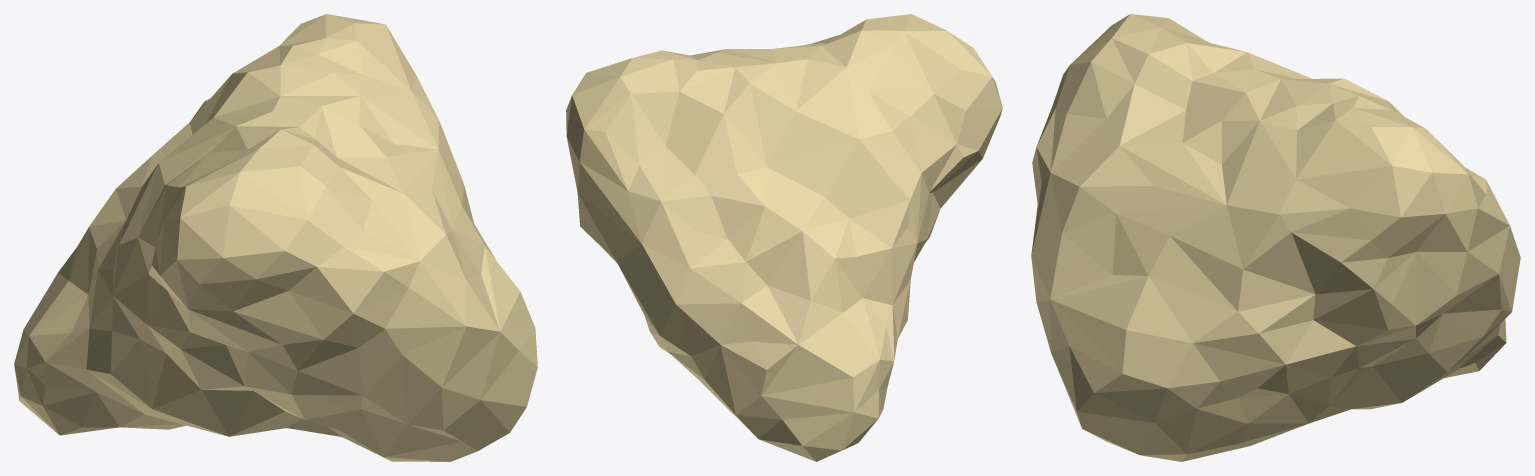
File: Asteroid (32).fbx
3 renders of one model, left to right at view 1: azimuth 30°, elevation 25°; view 2: azimuth 150°, elevation 25°; view 3: azimuth 270°, elevation 25°, orthographic. The views are drawn at different scales.
Visible parts, largest first — view 1: Asteroid210; view 2: Asteroid210; view 3: Asteroid210.
Boxes of the visible parts, left/top/right/bottom form: Asteroid210: left=14, top=14, right=537, bottom=461; Asteroid210: left=566, top=14, right=1002, bottom=461; Asteroid210: left=1031, top=14, right=1520, bottom=461.
Size of the model in its own units: 259 by 245 by 300.
